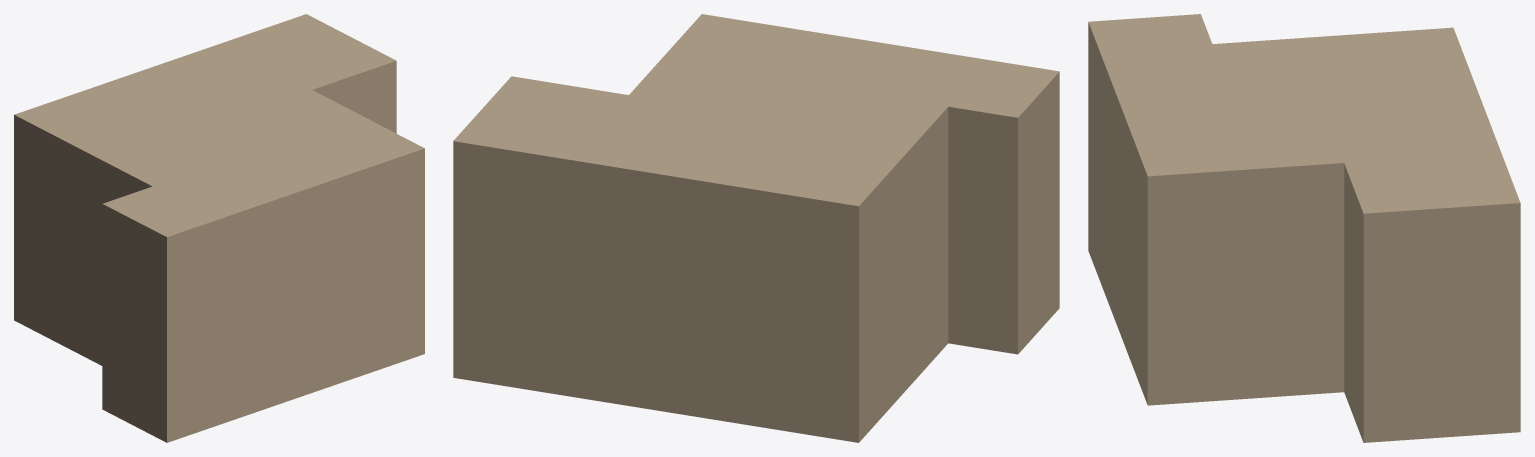
File: bld_101562365.dae
3 views of the same model, side by side, from view 1: azimuth 30°, elevation 25°; view 2: azimuth 150°, elevation 25°; view 3: azimuth 270°, elevation 25° (orthographic). The views are drawn at different scales.
Visible parts, largest first — view 1: bld_101562365; view 2: bld_101562365; view 3: bld_101562365.
Part boxes in pixels (<box>): bld_101562365: <box>14,14,424,442</box>; bld_101562365: <box>453,14,1059,442</box>; bld_101562365: <box>1088,14,1520,442</box>.
Size of the model in its own units: 14.95 by 13.67 by 8.
